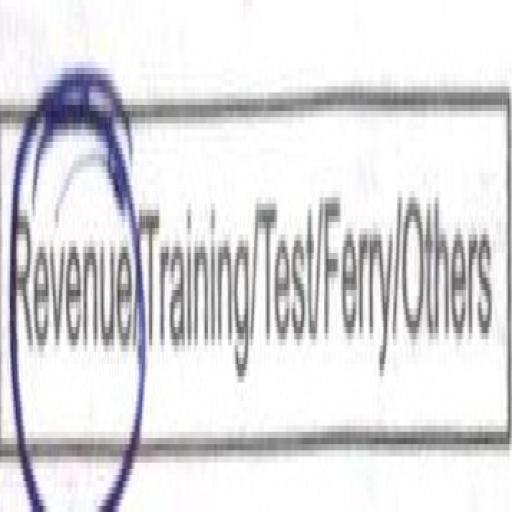check: (3, 31, 136, 512)
